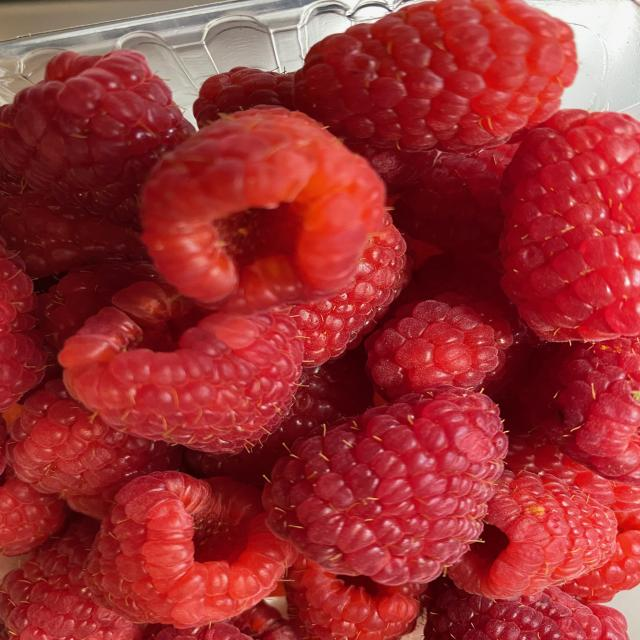raspberries: (10, 18, 612, 628)
